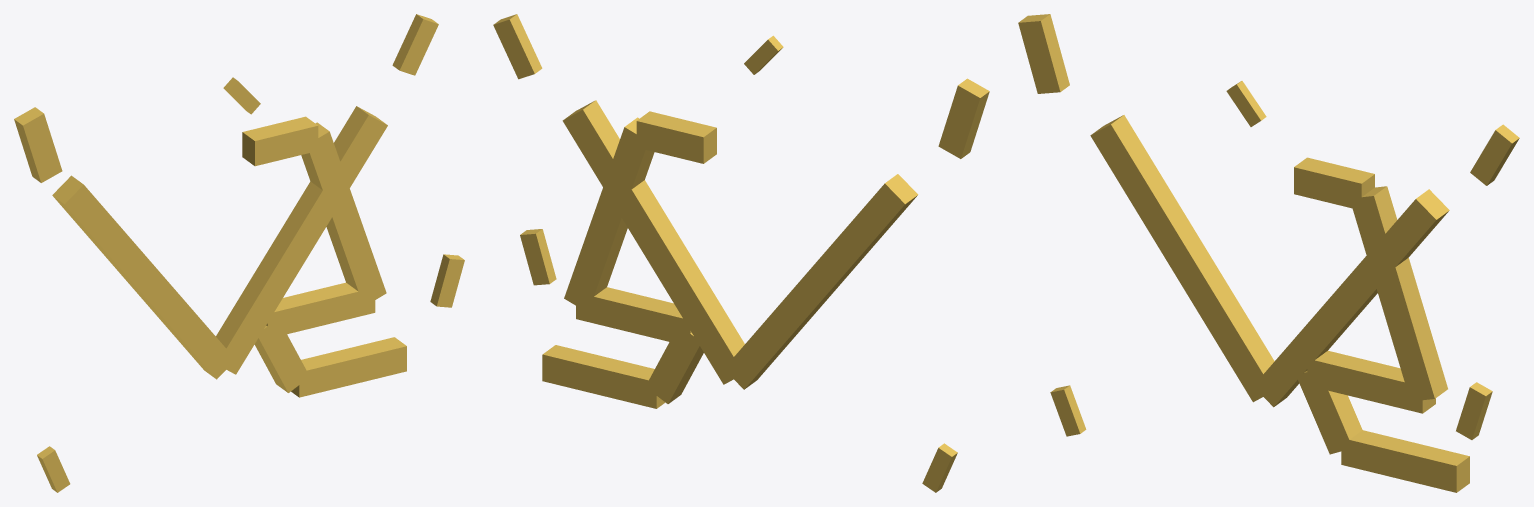
The model's file is voxx-vx-sculpture.glb.
3 views of the same model, side by side, from view 1: azimuth 30°, elevation 25°; view 2: azimuth 150°, elevation 25°; view 3: azimuth 330°, elevation 25° (orthographic). The views are drawn at different scales.
Parts seen in each view (by area): view 1: world; view 2: world; view 3: world.
Boxes of the visible parts, x1=… form: world: x1=14, y1=14, x2=464, y2=492; world: x1=493, y1=14, x2=989, y2=492; world: x1=1018, y1=14, x2=1519, y2=492.
Bounding box in the file's own units: 6.93 × 5.85 × 0.968.
